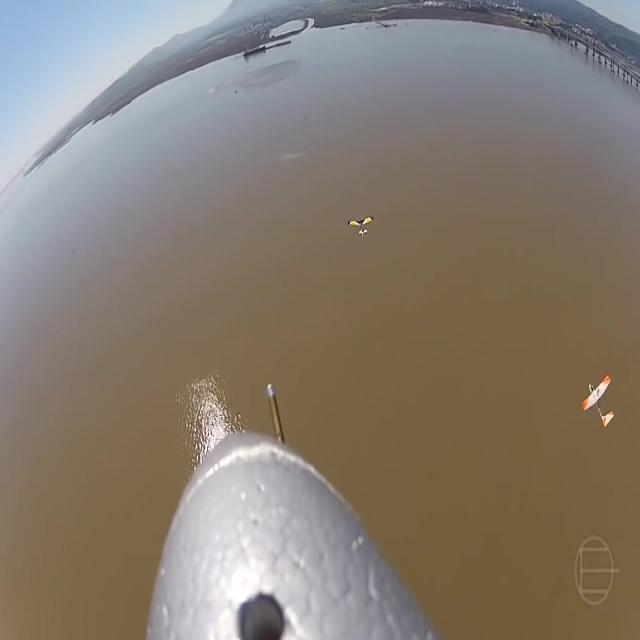iha: (581, 372, 615, 428), (348, 215, 373, 238)
